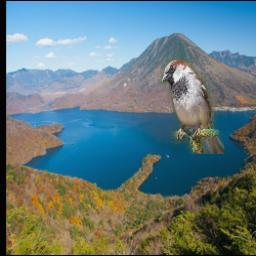Sparrow: (161, 59, 224, 154)
